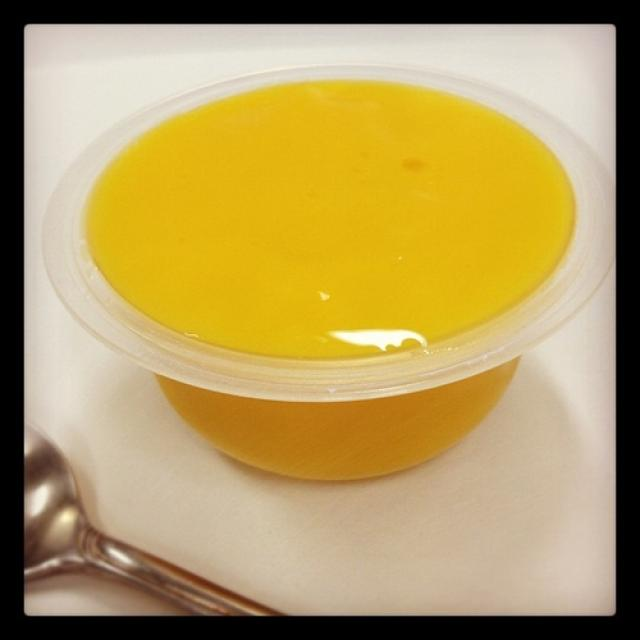蛋糕甜品: (130, 214, 602, 640)
